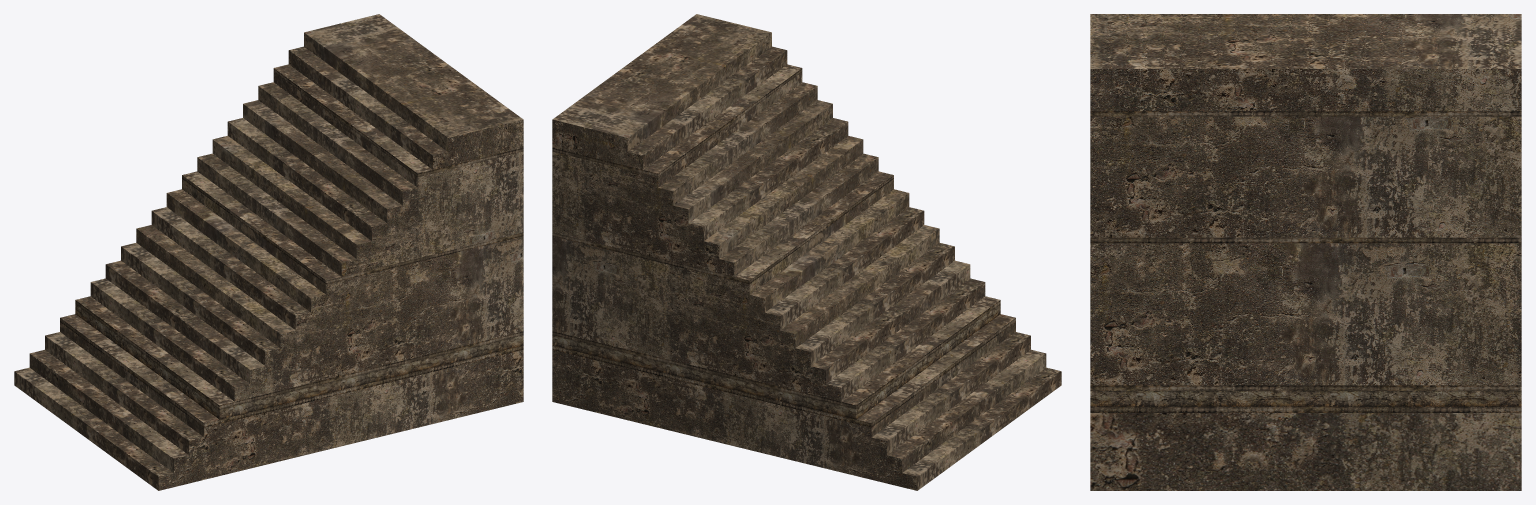
File: materials_5_stairblock_11.fbx
3 renders of one model, left to right at view 1: azimuth 30°, elevation 25°; view 2: azimuth 150°, elevation 25°; view 3: azimuth 270°, elevation 25°, orthographic. The views are drawn at different scales.
Parts seen in each view (by area): view 1: materials_5_stairblock_11; view 2: materials_5_stairblock_11; view 3: materials_5_stairblock_11.
Boxes of the visible parts, bbox=[...] form: materials_5_stairblock_11: bbox=[14, 14, 523, 490]; materials_5_stairblock_11: bbox=[552, 14, 1061, 490]; materials_5_stairblock_11: bbox=[1090, 14, 1521, 490].
Bounding box in the file's own units: 307 × 227 × 210.
